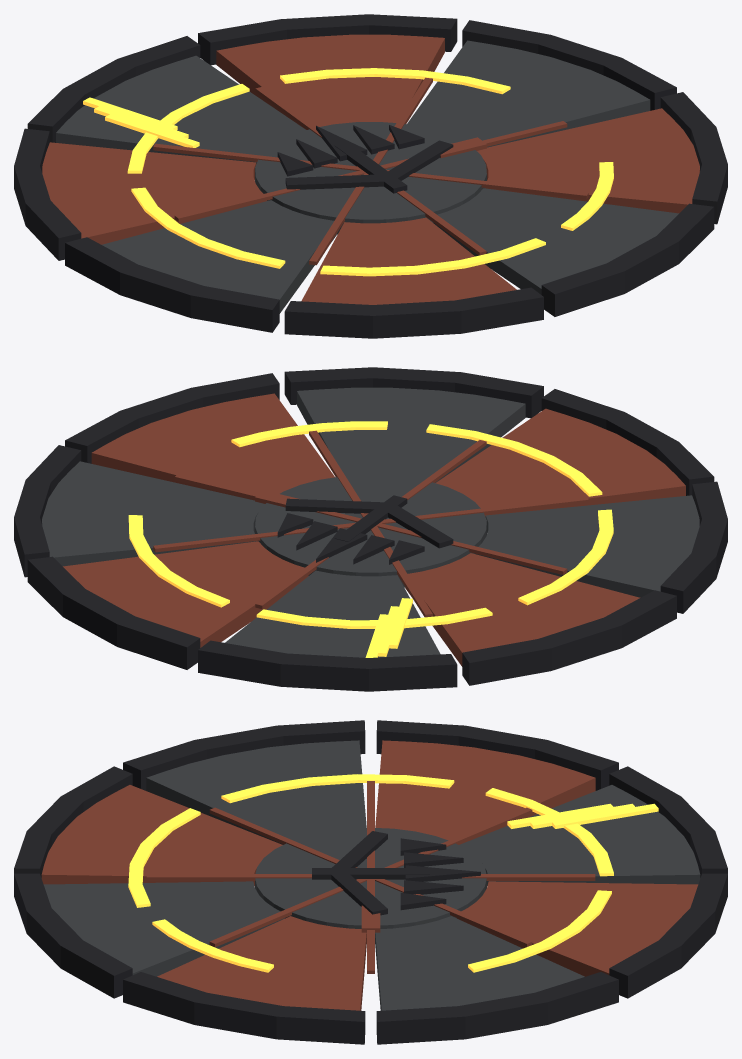
Rendered from SM_INF_CullingTrialFloor_A01.fbx.
The picture shows the model from 3 angles, top to bottom: view 1: azimuth 30°, elevation 25°; view 2: azimuth 150°, elevation 25°; view 3: azimuth 270°, elevation 25°; orthographic projection.
Parts seen in each view (by area): view 1: Wedge_08_BasaltSlab, Wedge_01_BasaltSlab, Wedge_02_BasaltSlab, Wedge_04_BasaltSlab, Wedge_07_BasaltSlab, Wedge_03_BasaltSlab, Wedge_05_BasaltSlab, CenterDisc_CultStone_HornCrownBase, Wedge_06_BasaltSlab, Rim_06_ObsidianIronRaised, Rim_05_ObsidianIronRaised, Rim_07_ObsidianIronRaised (+27 smaller); view 2: Wedge_01_BasaltSlab, Wedge_08_BasaltSlab, Wedge_07_BasaltSlab, Wedge_06_BasaltSlab, Wedge_05_BasaltSlab, Wedge_02_BasaltSlab, Wedge_04_BasaltSlab, CenterDisc_CultStone_HornCrownBase, Wedge_03_BasaltSlab, Rim_03_ObsidianIronRaised, Rim_04_ObsidianIronRaised, Rim_02_ObsidianIronRaised (+26 smaller); view 3: Wedge_06_BasaltSlab, Wedge_05_BasaltSlab, Wedge_04_BasaltSlab, Wedge_07_BasaltSlab, Wedge_02_BasaltSlab, Wedge_03_BasaltSlab, Wedge_08_BasaltSlab, Wedge_01_BasaltSlab, CenterDisc_CultStone_HornCrownBase, Rim_01_ObsidianIronRaised, Rim_08_ObsidianIronRaised, Rim_02_ObsidianIronRaised (+27 smaller).
Part boxes in pixels (left/top/right/bottom): Wedge_08_BasaltSlab: left=477, top=108, right=699, bottom=213; Wedge_01_BasaltSlab: left=407, top=40, right=650, bottom=147; Wedge_02_BasaltSlab: left=216, top=34, right=444, bottom=129; Wedge_04_BasaltSlab: left=42, top=142, right=266, bottom=244; Wedge_07_BasaltSlab: left=433, top=188, right=678, bottom=294; Wedge_03_BasaltSlab: left=56, top=55, right=306, bottom=163; Wedge_05_BasaltSlab: left=101, top=200, right=336, bottom=313; CenterDisc_CultStone_HornCrownBase: left=255, top=122, right=486, bottom=234; Wedge_06_BasaltSlab: left=301, top=217, right=516, bottom=304; Rim_06_ObsidianIronRaised: left=284, top=287, right=543, bottom=338; Rim_05_ObsidianIronRaised: left=65, top=237, right=279, bottom=332; Rim_07_ObsidianIronRaised: left=541, top=203, right=714, bottom=316; Wedge_01_BasaltSlab: left=42, top=461, right=264, bottom=566; Wedge_08_BasaltSlab: left=91, top=393, right=334, bottom=500; Wedge_07_BasaltSlab: left=297, top=387, right=525, bottom=482; Wedge_06_BasaltSlab: left=435, top=408, right=685, bottom=516; Wedge_05_BasaltSlab: left=475, top=495, right=699, bottom=597; Wedge_02_BasaltSlab: left=63, top=541, right=308, bottom=647; Wedge_04_BasaltSlab: left=405, top=553, right=640, bottom=666; CenterDisc_CultStone_HornCrownBase: left=255, top=475, right=486, bottom=587; Wedge_03_BasaltSlab: left=225, top=570, right=440, bottom=657; Rim_03_ObsidianIronRaised: left=198, top=640, right=457, bottom=691; Rim_04_ObsidianIronRaised: left=462, top=590, right=676, bottom=685; Rim_02_ObsidianIronRaised: left=27, top=556, right=200, bottom=669; Wedge_06_BasaltSlab: left=41, top=785, right=282, bottom=885; Wedge_05_BasaltSlab: left=146, top=740, right=366, bottom=844; Wedge_04_BasaltSlab: left=375, top=740, right=595, bottom=844; Wedge_07_BasaltSlab: left=43, top=881, right=284, bottom=976; Wedge_02_BasaltSlab: left=457, top=881, right=698, bottom=976; Wedge_03_BasaltSlab: left=459, top=785, right=700, bottom=885; Wedge_08_BasaltSlab: left=157, top=916, right=366, bottom=1010; Wedge_01_BasaltSlab: left=375, top=916, right=584, bottom=1010; CenterDisc_CultStone_HornCrownBase: left=255, top=828, right=486, bottom=928; Rim_01_ObsidianIronRaised: left=376, top=972, right=618, bottom=1044; Rim_08_ObsidianIronRaised: left=123, top=972, right=365, bottom=1044; Rim_02_ObsidianIronRaised: left=609, top=873, right=727, bottom=998.
Size of what is drawn, in the model's own units: 90986 by 90986 by 3200.
